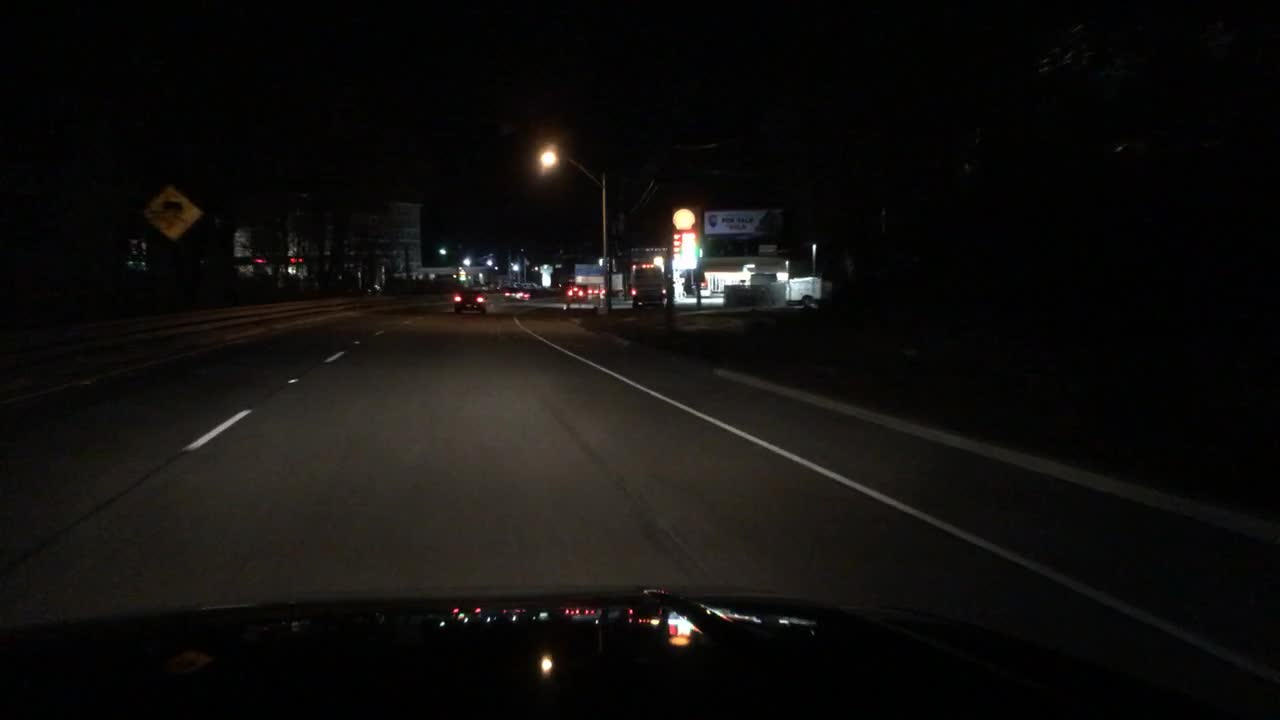car: (628, 263, 669, 308), (783, 278, 825, 308), (451, 287, 487, 314), (563, 286, 587, 303), (502, 288, 530, 302), (586, 285, 598, 294)
traffic sign: (141, 184, 203, 242), (573, 261, 605, 283)
